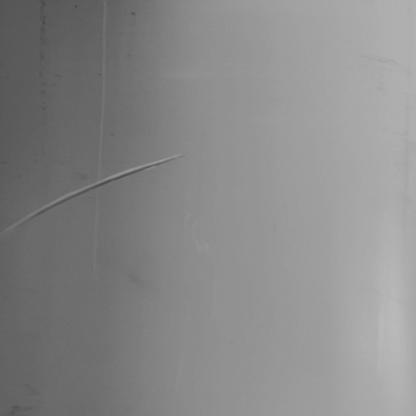sunshang: (3, 156, 180, 227)
